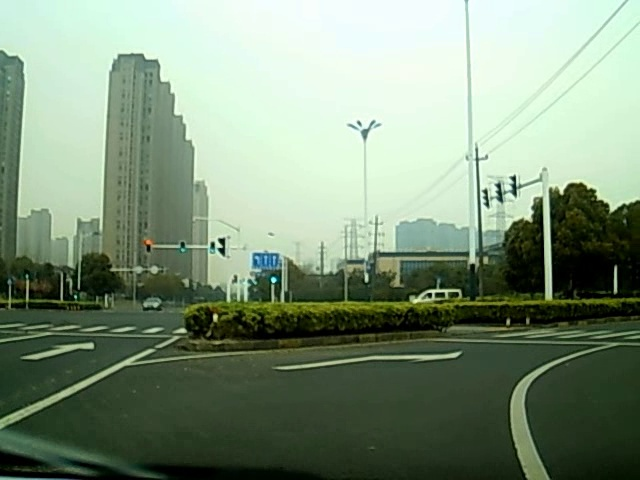Traffic_Light_go: (266, 272, 278, 286), (209, 241, 216, 257), (179, 241, 187, 252)
Traffic_Light_stop: (143, 238, 152, 255)
